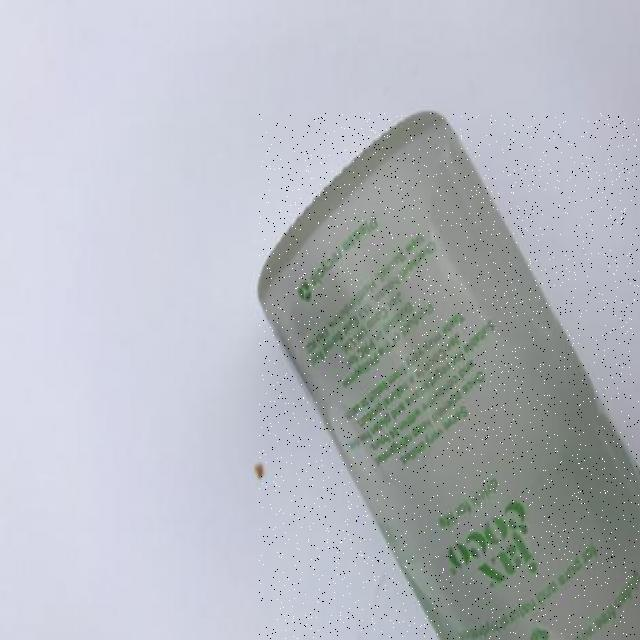glass: (259, 113, 640, 640)
